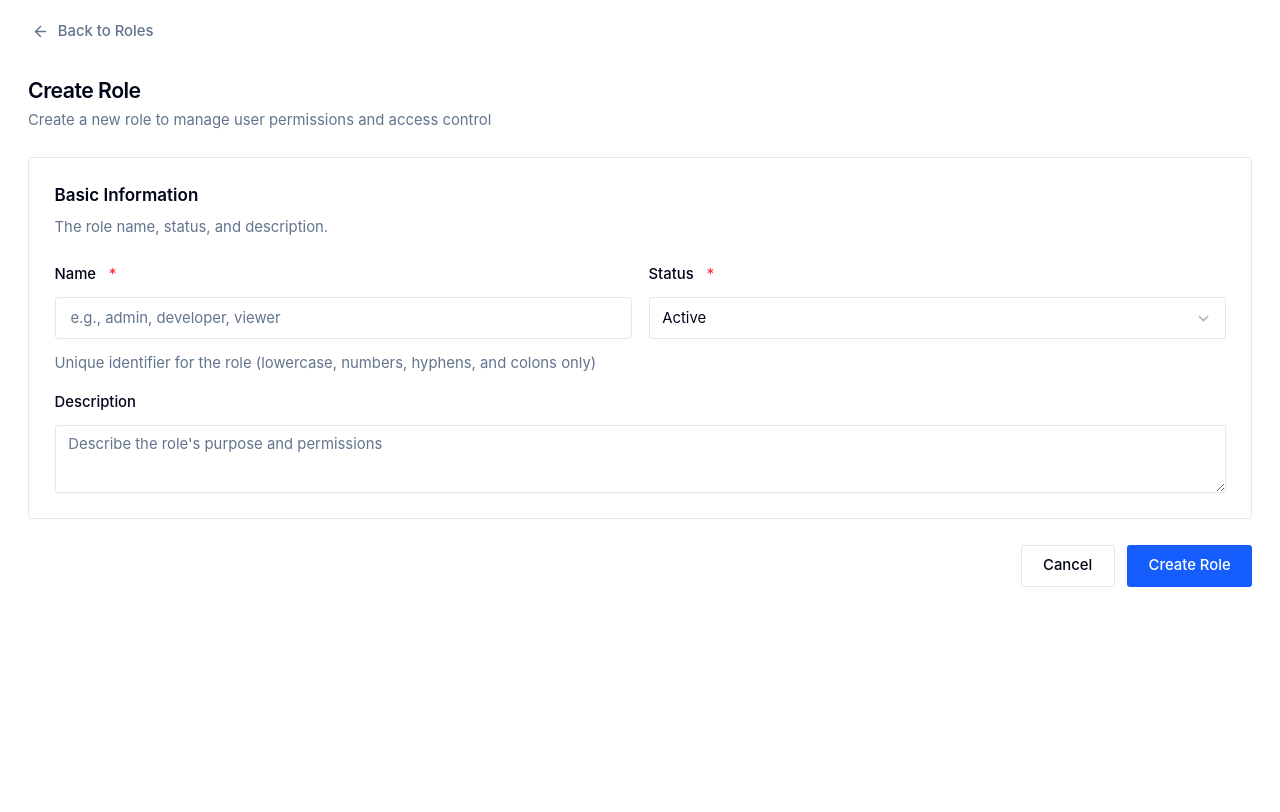
Scenario: RoleAddOrUpdateForm › shows validation errors for blank required fields
This screenshot has width=1280, height=812.
Click the button "Create Role" at x=1190, y=566, box left=1127, top=545, right=1252, bottom=587
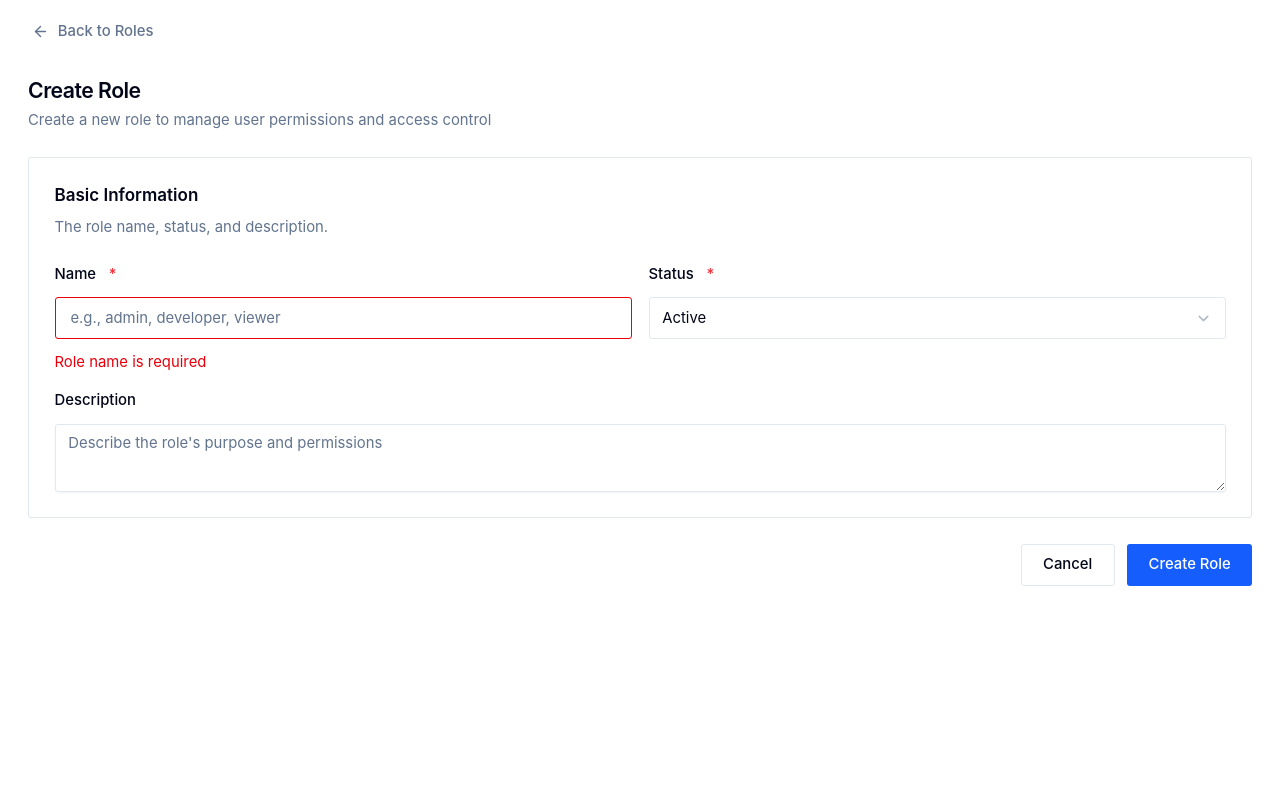
Result: the text "Role name is required" is shown at left=54, top=353, right=206, bottom=371
